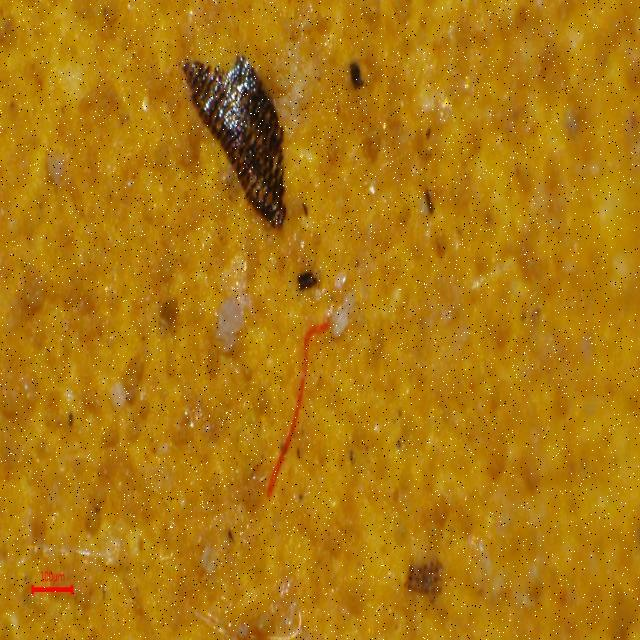fibers: (251, 312, 333, 498)
